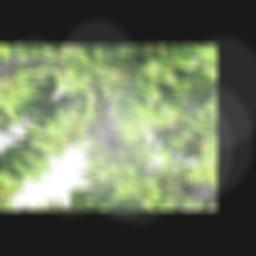Crow: (73, 96, 150, 154)
